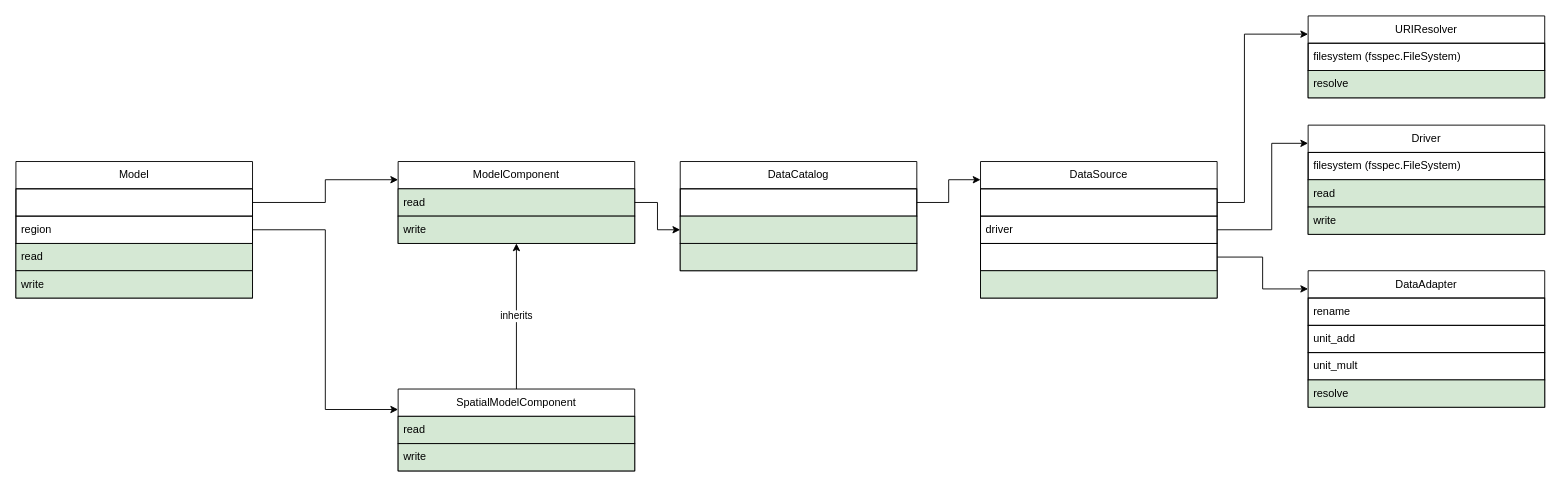
Image size: 1561x487. Some labels were removed from this diagram. Each missing label, with the centre of its shape:
"components" goes at point (134, 202).
"data_adapter" goes at point (1098, 257).
"export" goes at point (798, 257).
"get_<datatype>" goes at point (798, 229).
"read_data" goes at point (1098, 284).
"sources" goes at point (798, 202).
"uri_resolver" goes at point (1098, 202).
